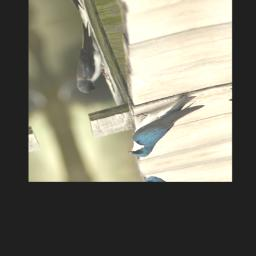Swallow: (114, 92, 217, 160)
